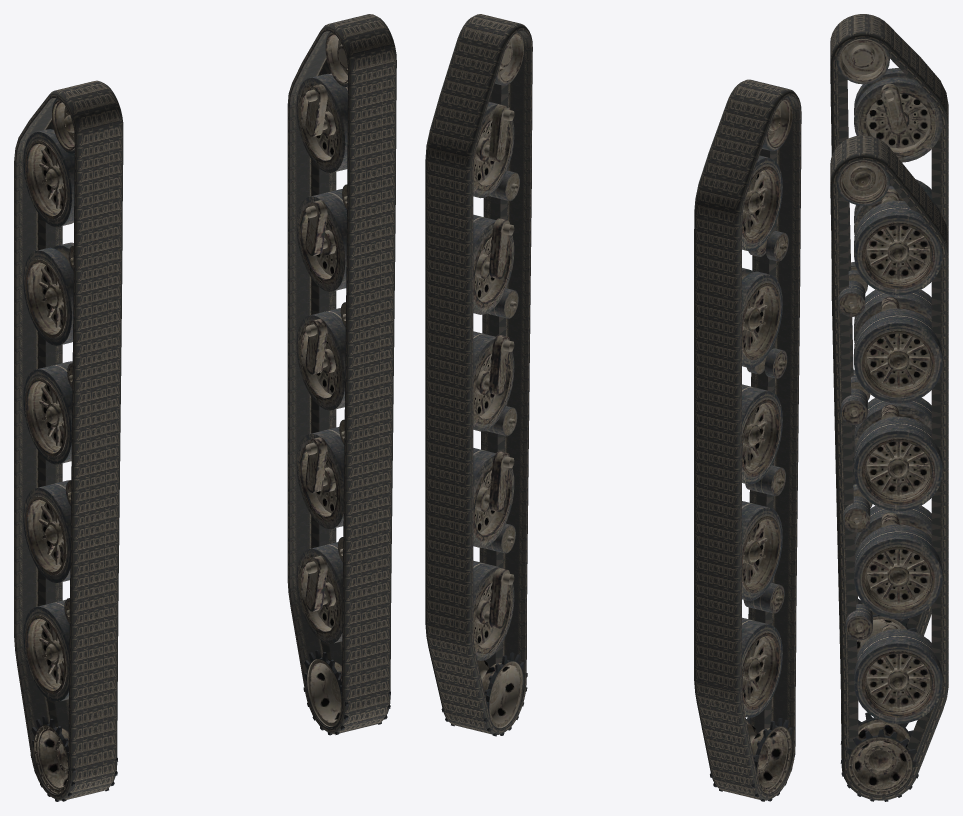
The model's file is Chassis.glb.
3 renders of one model, left to right at view 1: azimuth 30°, elevation 25°; view 2: azimuth 150°, elevation 25°; view 3: azimuth 270°, elevation 25°, orthographic. The views are drawn at different scales.
Parts seen in each view (by area): view 1: set_0_group_0, set_1_group_0, set_3_group_0, set_2_group_0; view 2: set_1_group_0, set_0_group_0, set_2_group_0, set_3_group_0; view 3: set_3_group_0, set_1_group_0, set_2_group_0, set_0_group_0.
Boxes of the visible parts, x1,y1,x2,y2 form: set_0_group_0: (14, 80, 123, 800); set_1_group_0: (287, 14, 396, 734); set_3_group_0: (296, 31, 390, 735); set_2_group_0: (23, 98, 117, 801); set_1_group_0: (425, 14, 532, 734); set_0_group_0: (694, 79, 801, 800); set_2_group_0: (709, 97, 795, 801); set_3_group_0: (441, 31, 527, 736); set_3_group_0: (836, 160, 942, 801); set_1_group_0: (830, 135, 948, 800); set_2_group_0: (836, 38, 942, 653); set_0_group_0: (830, 14, 948, 635).
Bounding box in the file's own units: 3.09 × 6.57 × 1.09.
4 materials, 4 textured.
